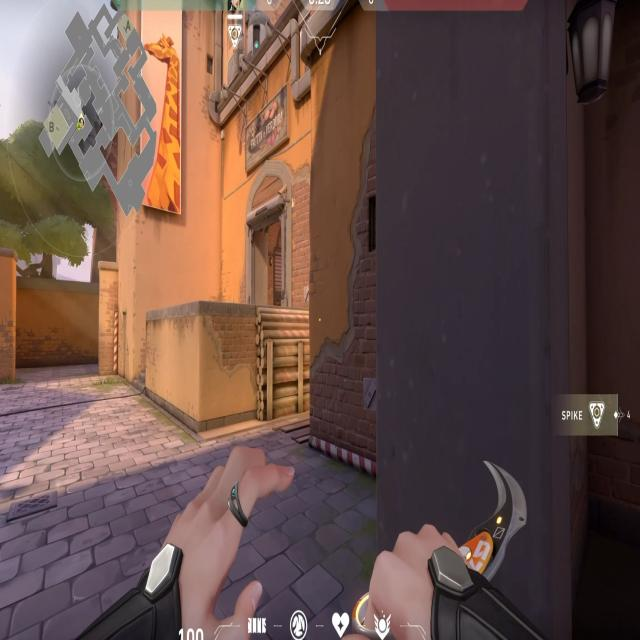B_Cubby: (196, 298, 318, 452)
